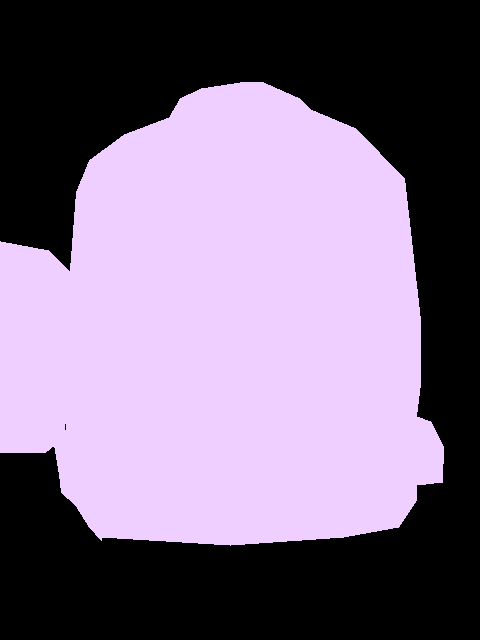Train: (54, 82, 443, 545), (0, 241, 70, 453)
